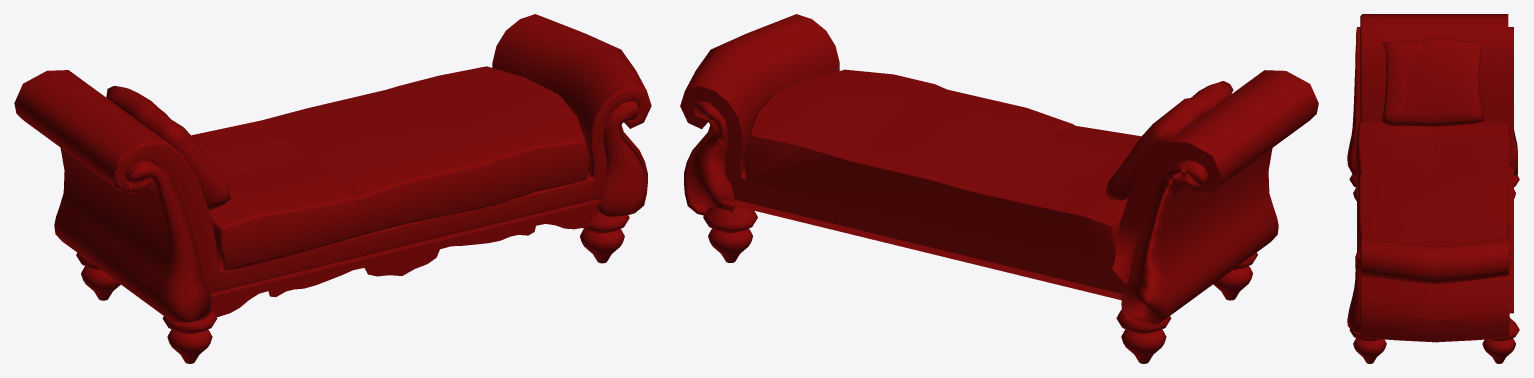
The model's file is ACT3_Ligstoel_fin.fbx.
The picture shows the model from 3 angles, left to right: view 1: azimuth 30°, elevation 25°; view 2: azimuth 150°, elevation 25°; view 3: azimuth 270°, elevation 25°; orthographic projection. The views are drawn at different scales.
Parts seen in each view (by area): view 1: pasted__polySurface1, pasted__polySurface2, mesh_Libray_Chair_Wood, mesh_Libray_Chair_Cushion; view 2: pasted__polySurface1, pasted__polySurface2, mesh_Libray_Chair_Wood, mesh_Libray_Chair_Cushion, pasted__polySurface3; view 3: pasted__polySurface1, pasted__polySurface2, pasted__polySurface3, mesh_Libray_Chair_Cushion, mesh_Libray_Chair_Wood.
Boxes of the visible parts, x1,y1,x2,y2 form: pasted__polySurface1: [191, 66, 589, 270]; pasted__polySurface2: [14, 14, 651, 293]; mesh_Libray_Chair_Wood: [54, 101, 645, 363]; mesh_Libray_Chair_Cushion: [106, 85, 230, 210]; pasted__polySurface1: [743, 69, 1141, 267]; pasted__polySurface2: [680, 14, 1318, 293]; mesh_Libray_Chair_Wood: [688, 101, 1278, 363]; mesh_Libray_Chair_Cushion: [1105, 81, 1233, 200]; pasted__polySurface3: [684, 119, 745, 215]; pasted__polySurface1: [1355, 121, 1509, 250]; pasted__polySurface2: [1360, 14, 1508, 284]; pasted__polySurface3: [1360, 262, 1509, 342]; mesh_Libray_Chair_Cushion: [1382, 37, 1483, 126]; mesh_Libray_Chair_Wood: [1347, 27, 1519, 363].
Bounding box in the file's own units: 5.81 × 2.32 × 2.07.
